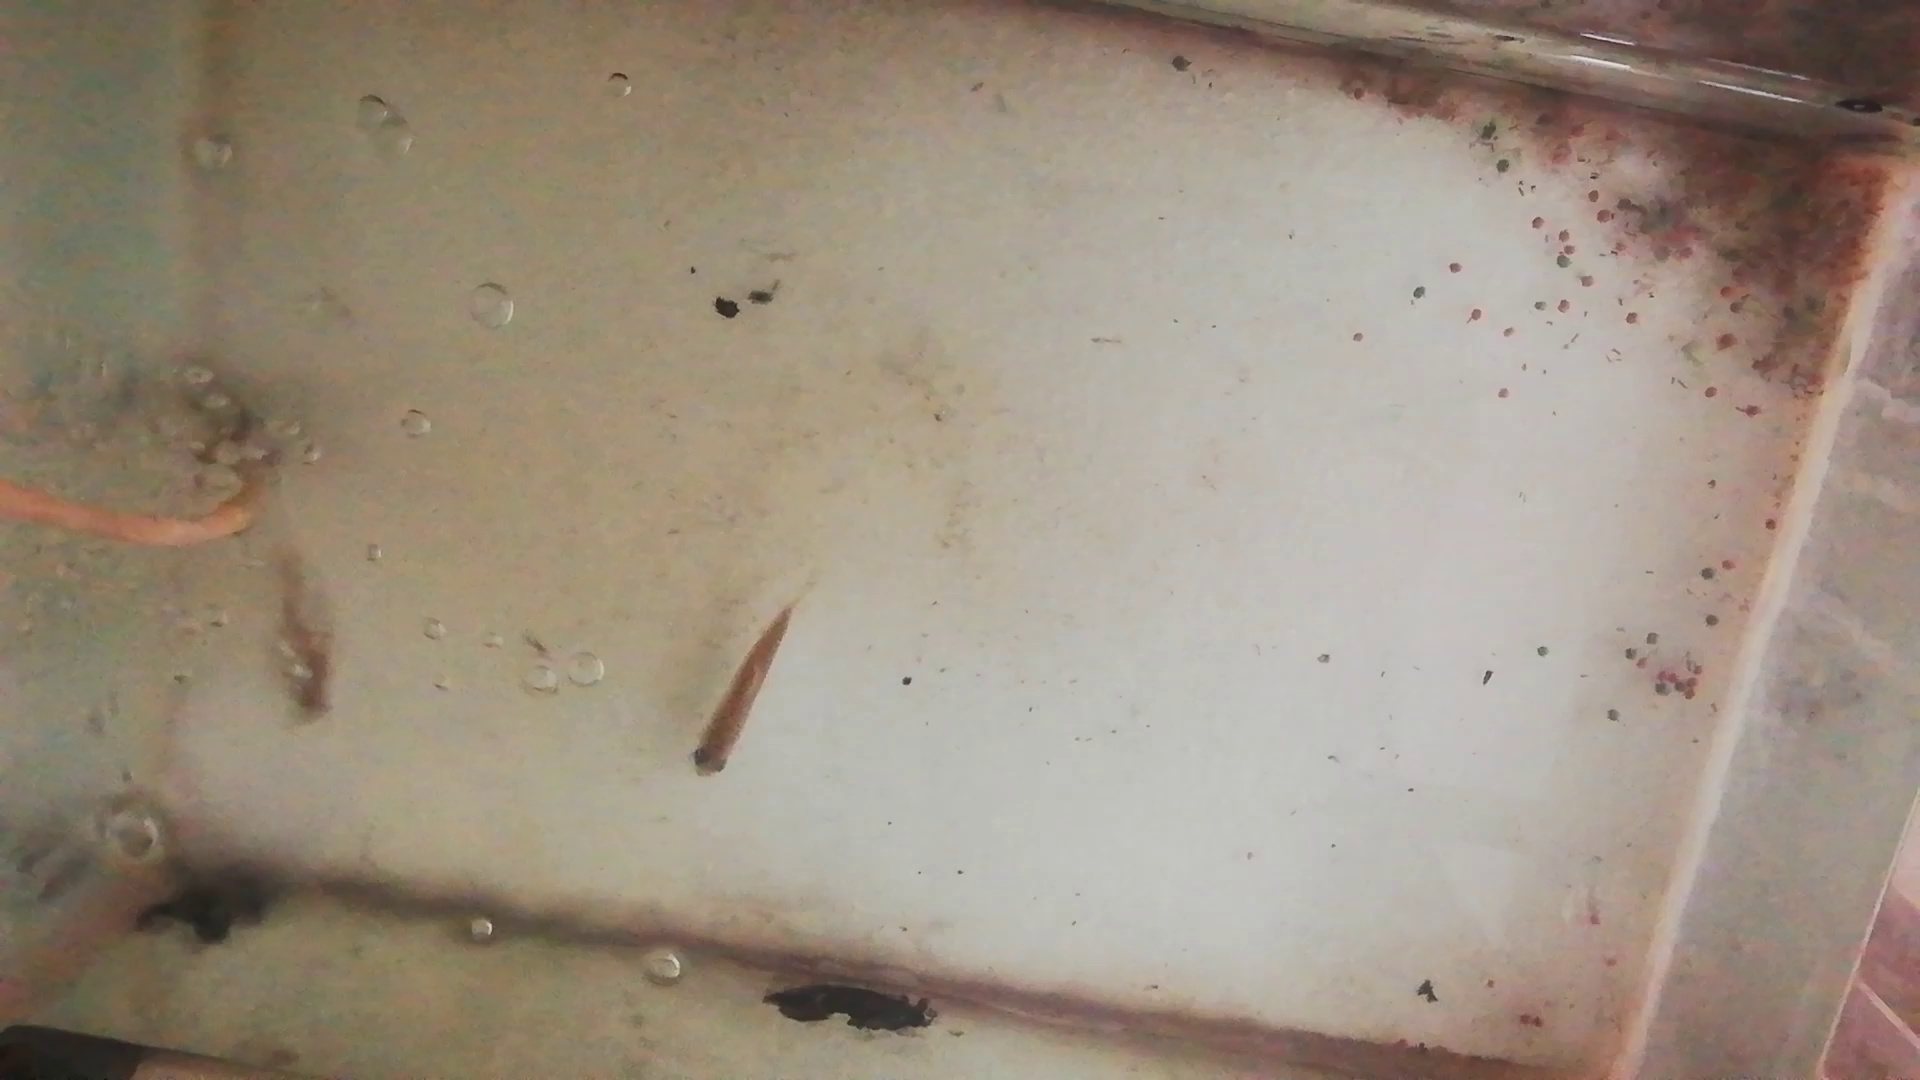fish: (686, 612, 793, 775), (274, 535, 338, 732)
